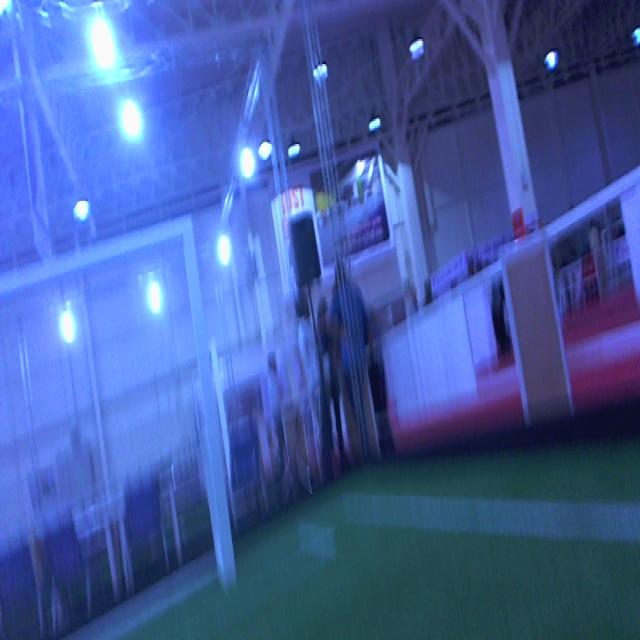goalpost: (179, 219, 235, 581)
